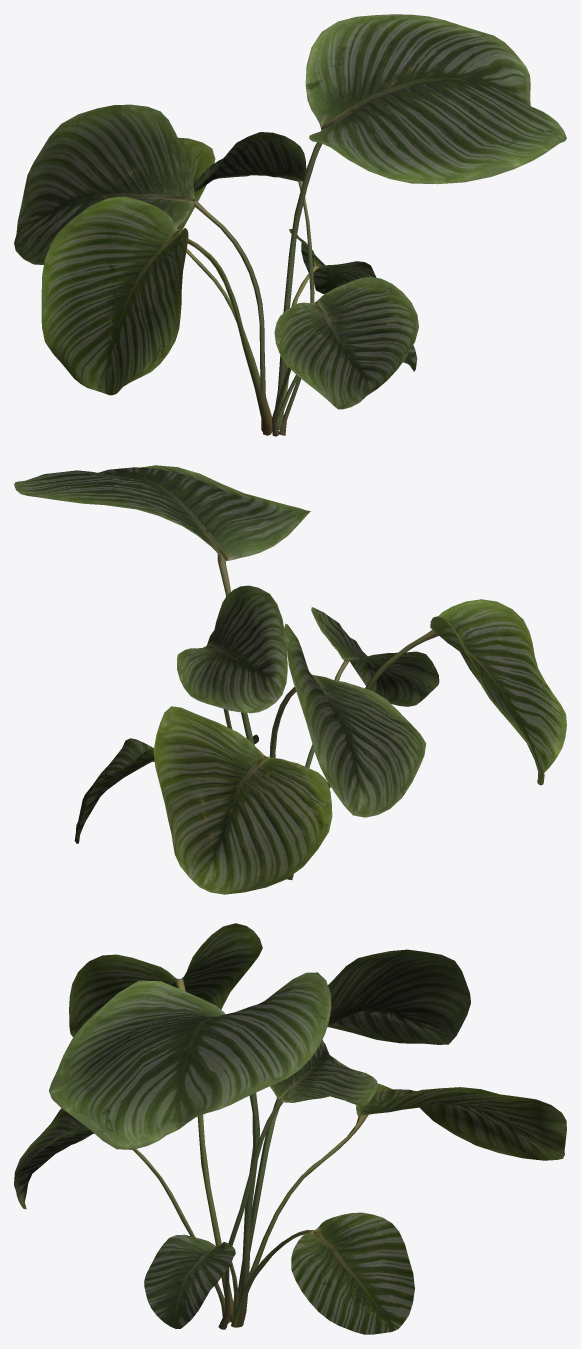
Rendered from calathea0.glb.
3 views of the same model, one above another, from view 1: azimuth 30°, elevation 25°; view 2: azimuth 150°, elevation 25°; view 3: azimuth 270°, elevation 25° (orthographic). The views are drawn at different scales.
Visible parts, largest first — view 1: calathea_orbifolia_01_a; view 2: calathea_orbifolia_01_a; view 3: calathea_orbifolia_01_a.
Boxes of the visible parts, box(x1,y1,x2,y2) form: calathea_orbifolia_01_a: box(14, 14, 566, 436); calathea_orbifolia_01_a: box(14, 465, 566, 894); calathea_orbifolia_01_a: box(14, 923, 566, 1334).
Bounding box in the file's own units: 0.6006 × 0.4244 × 0.5256.
1 material, 1 textured.
